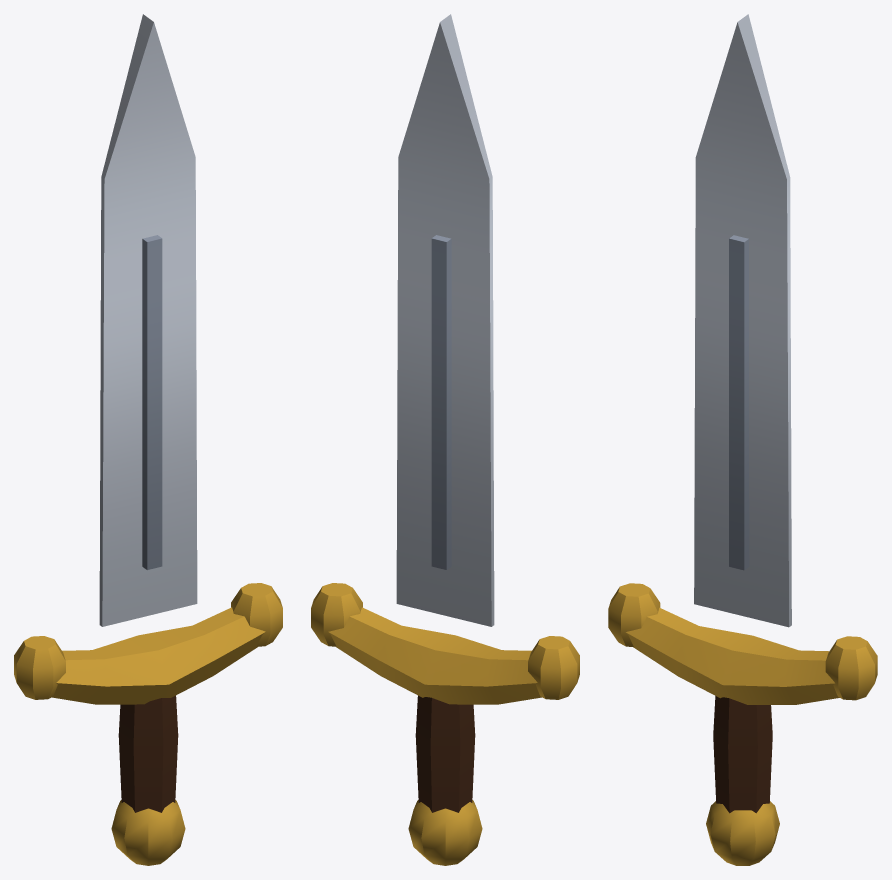
The model's file is Weapon_EnemySword.fbx.
The picture shows the model from 3 angles, left to right: view 1: azimuth 30°, elevation 25°; view 2: azimuth 150°, elevation 25°; view 3: azimuth 330°, elevation 25°; orthographic projection.
Parts seen in each view (by area): view 1: SoldierSword; view 2: SoldierSword; view 3: SoldierSword.
Part boxes in pixels (left/top/right/bottom): SoldierSword: left=14, top=14, right=282, bottom=865; SoldierSword: left=311, top=14, right=579, bottom=865; SoldierSword: left=608, top=14, right=877, bottom=865.
Bounding box in the file's own units: 0.1942 × 0.5915 × 0.052.
